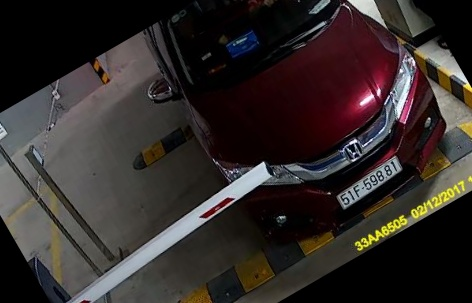plate: (335, 156, 406, 212)
